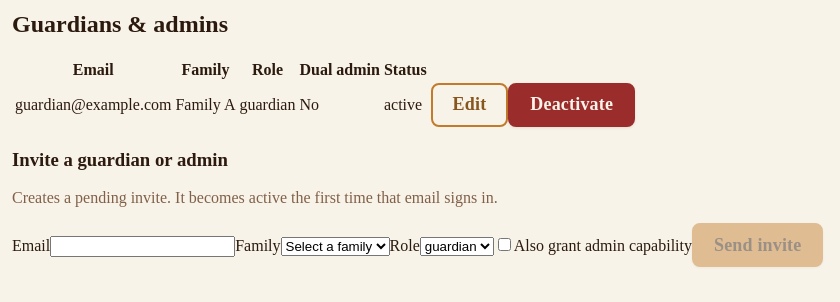
UsersTab › shows an error when a status change fails
Step 1. Click the button "Deactivate" → (572, 105), box [508,83,635,127]
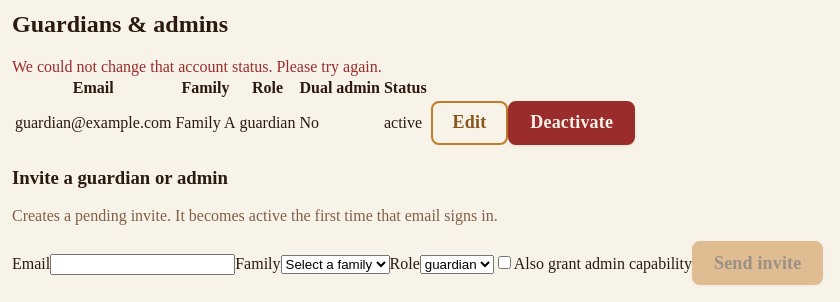
expect the message shows "could not change": met, box [12,58,382,75]
